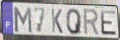7: (33, 6, 47, 34)
E: (99, 9, 118, 37)
K: (50, 8, 64, 35)
M: (12, 6, 33, 34)
Q: (65, 8, 83, 36)
R: (83, 9, 101, 38)
